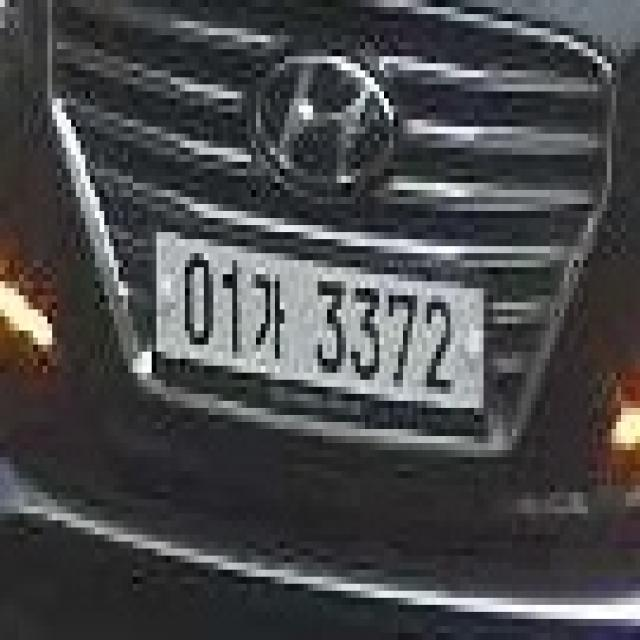0: (180, 248, 216, 354)
1: (220, 251, 243, 364)
2: (425, 294, 463, 398)
3: (308, 273, 346, 384), (350, 280, 384, 390)
7: (386, 286, 424, 388)
ga: (248, 266, 291, 364)
license_plate: (139, 218, 500, 442)
